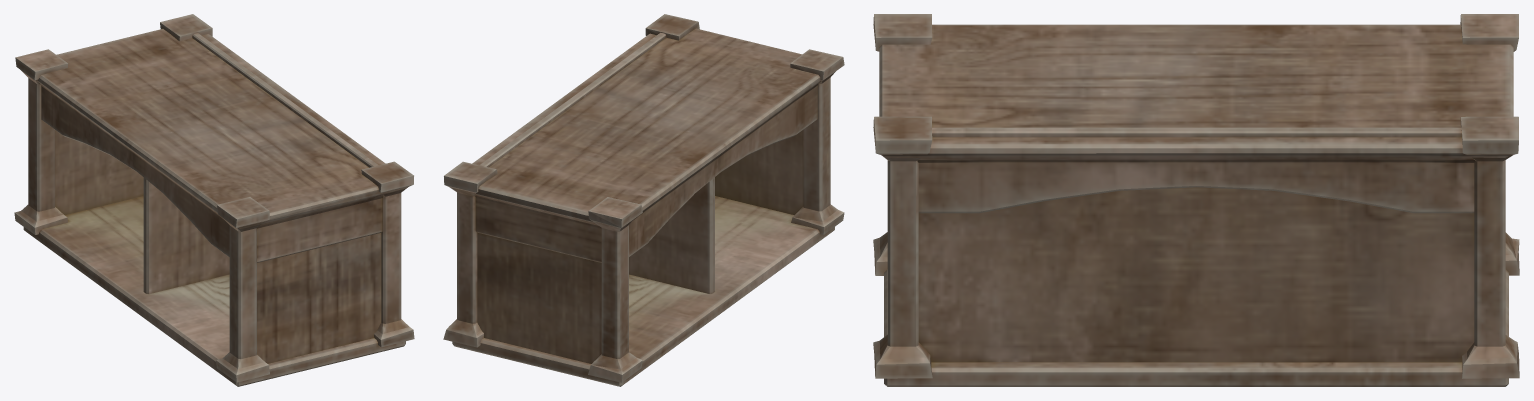
The model's file is SM_cabinet_top_01.fbx.
3 views of the same model, side by side, from view 1: azimuth 30°, elevation 25°; view 2: azimuth 150°, elevation 25°; view 3: azimuth 270°, elevation 25° (orthographic). The views are drawn at different scales.
Parts seen in each view (by area): view 1: SM_cabinet_top_01_LOD0; view 2: SM_cabinet_top_01_LOD0; view 3: SM_cabinet_top_01_LOD0.
Part boxes in pixels (box(x1,y1,x2,y2)): SM_cabinet_top_01_LOD0: box(14, 14, 414, 386); SM_cabinet_top_01_LOD0: box(443, 14, 844, 386); SM_cabinet_top_01_LOD0: box(873, 14, 1519, 386).
Size of the model in its own units: 69.52 by 149 by 63.79.
Materials: 1 (1 with a texture image).
